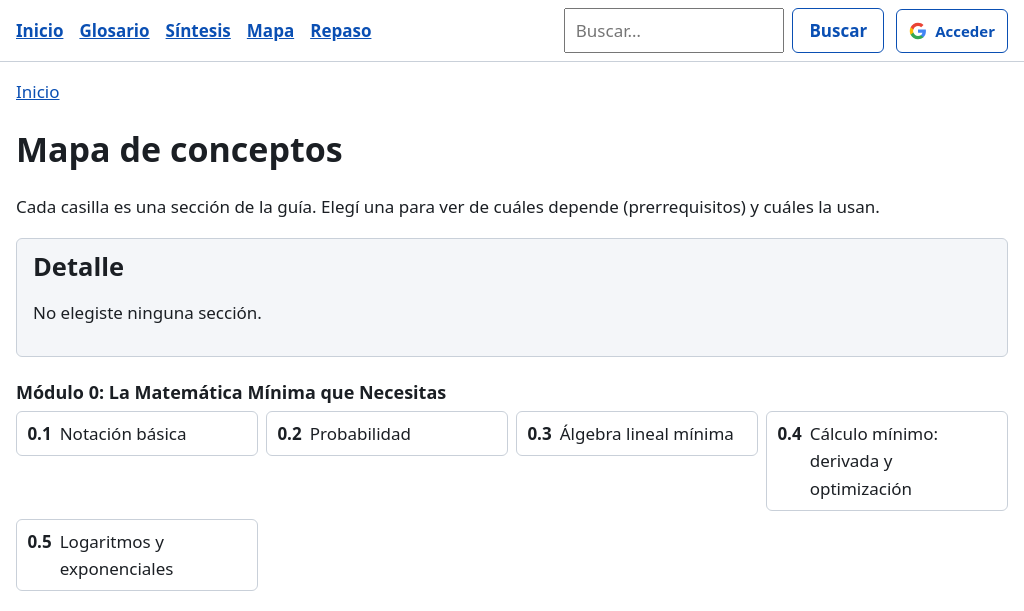
mapa de conceptos › una sección sin prerrequisitos o sin usos lo dice
Click the button with class "node" showing "0.1 Notación básica". click: x=137, y=434
box: [16,411,258,456]
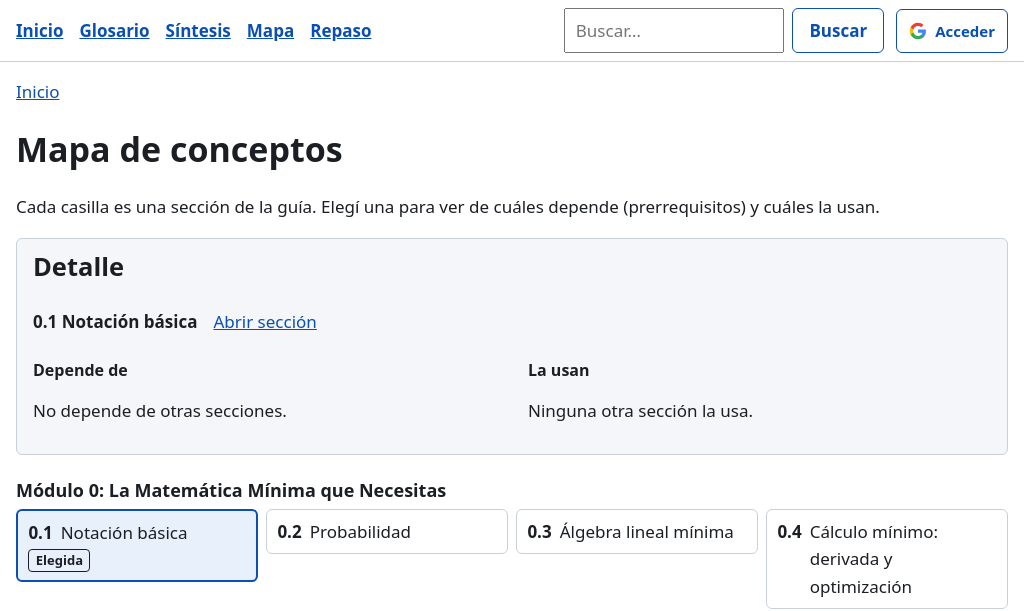
expect the element with class "detail" shows "No depende de otras secciones.": met, box [33,400,287,422]
expect the element with class "detail" shows "Ninguna otra sección la usa.": met, box [528,400,753,422]
